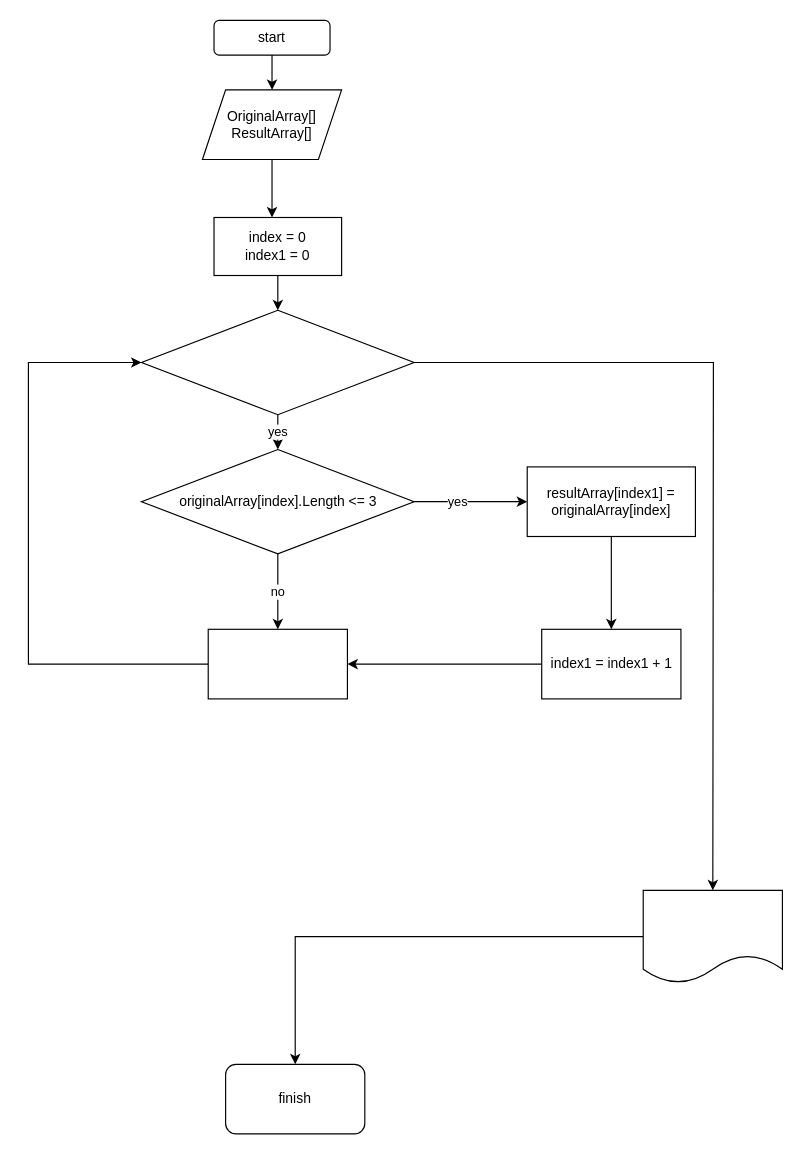
The diagram is 803 pixels wide and 1154 high, and some of its shapes have lost their labels. The box of each missing label's shape, as (x1, y1, x2, y2) in pixels:
index < OriginalArray.length: (140, 309, 414, 415)
index = index + 1: (207, 628, 347, 699)
resultArray[]: (642, 889, 782, 983)
